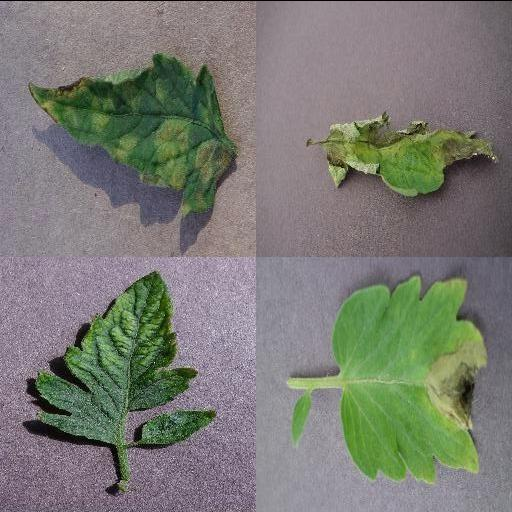Late Blight: (330, 272, 490, 486), (325, 111, 499, 197)
Leaf Mold: (27, 56, 237, 214)
Mosaic Virus: (37, 267, 201, 447)
